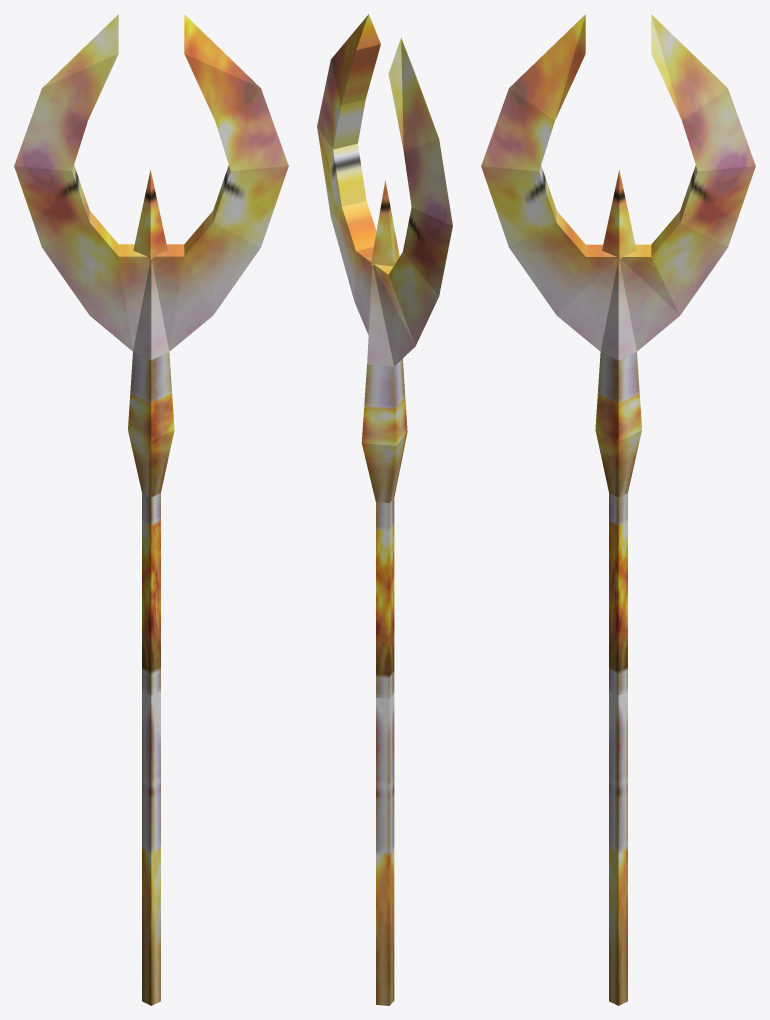
File: longarm03_3.obj
3 renders of one model, left to right at view 1: azimuth 90°, elevation 25°; view 2: azimuth 210°, elevation 25°; view 3: azimuth 270°, elevation 25°, orthographic.
Parts seen in each view (by area): view 1: longarm03_3; view 2: longarm03_3; view 3: longarm03_3.
Part boxes in pixels (x1,y1,x2,y2): longarm03_3: (14,14,288,1005); longarm03_3: (317,14,452,1005); longarm03_3: (481,14,755,1005).
Size of the model in its own units: 0.1175 by 2.39 by 0.6037.
